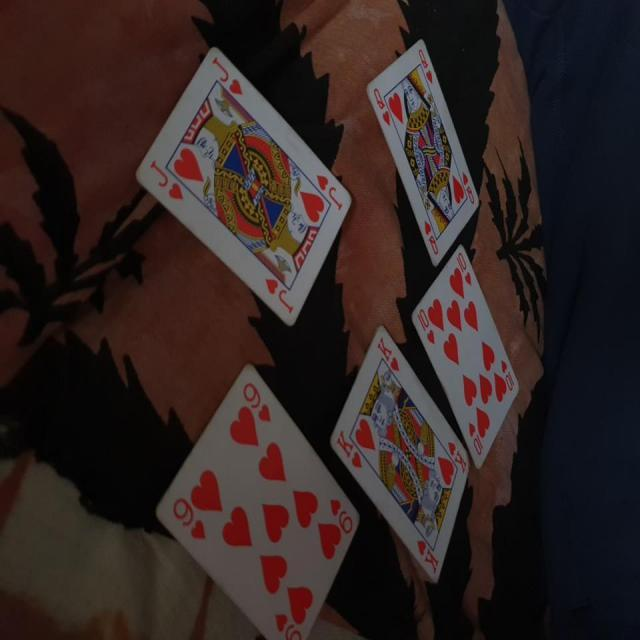10 of hearts: (412, 244, 524, 476)
9 of hearts: (146, 358, 360, 631)
jack of hearts: (128, 45, 358, 330)
king of hearts: (327, 322, 472, 592)
queen of hearts: (374, 38, 482, 268)
